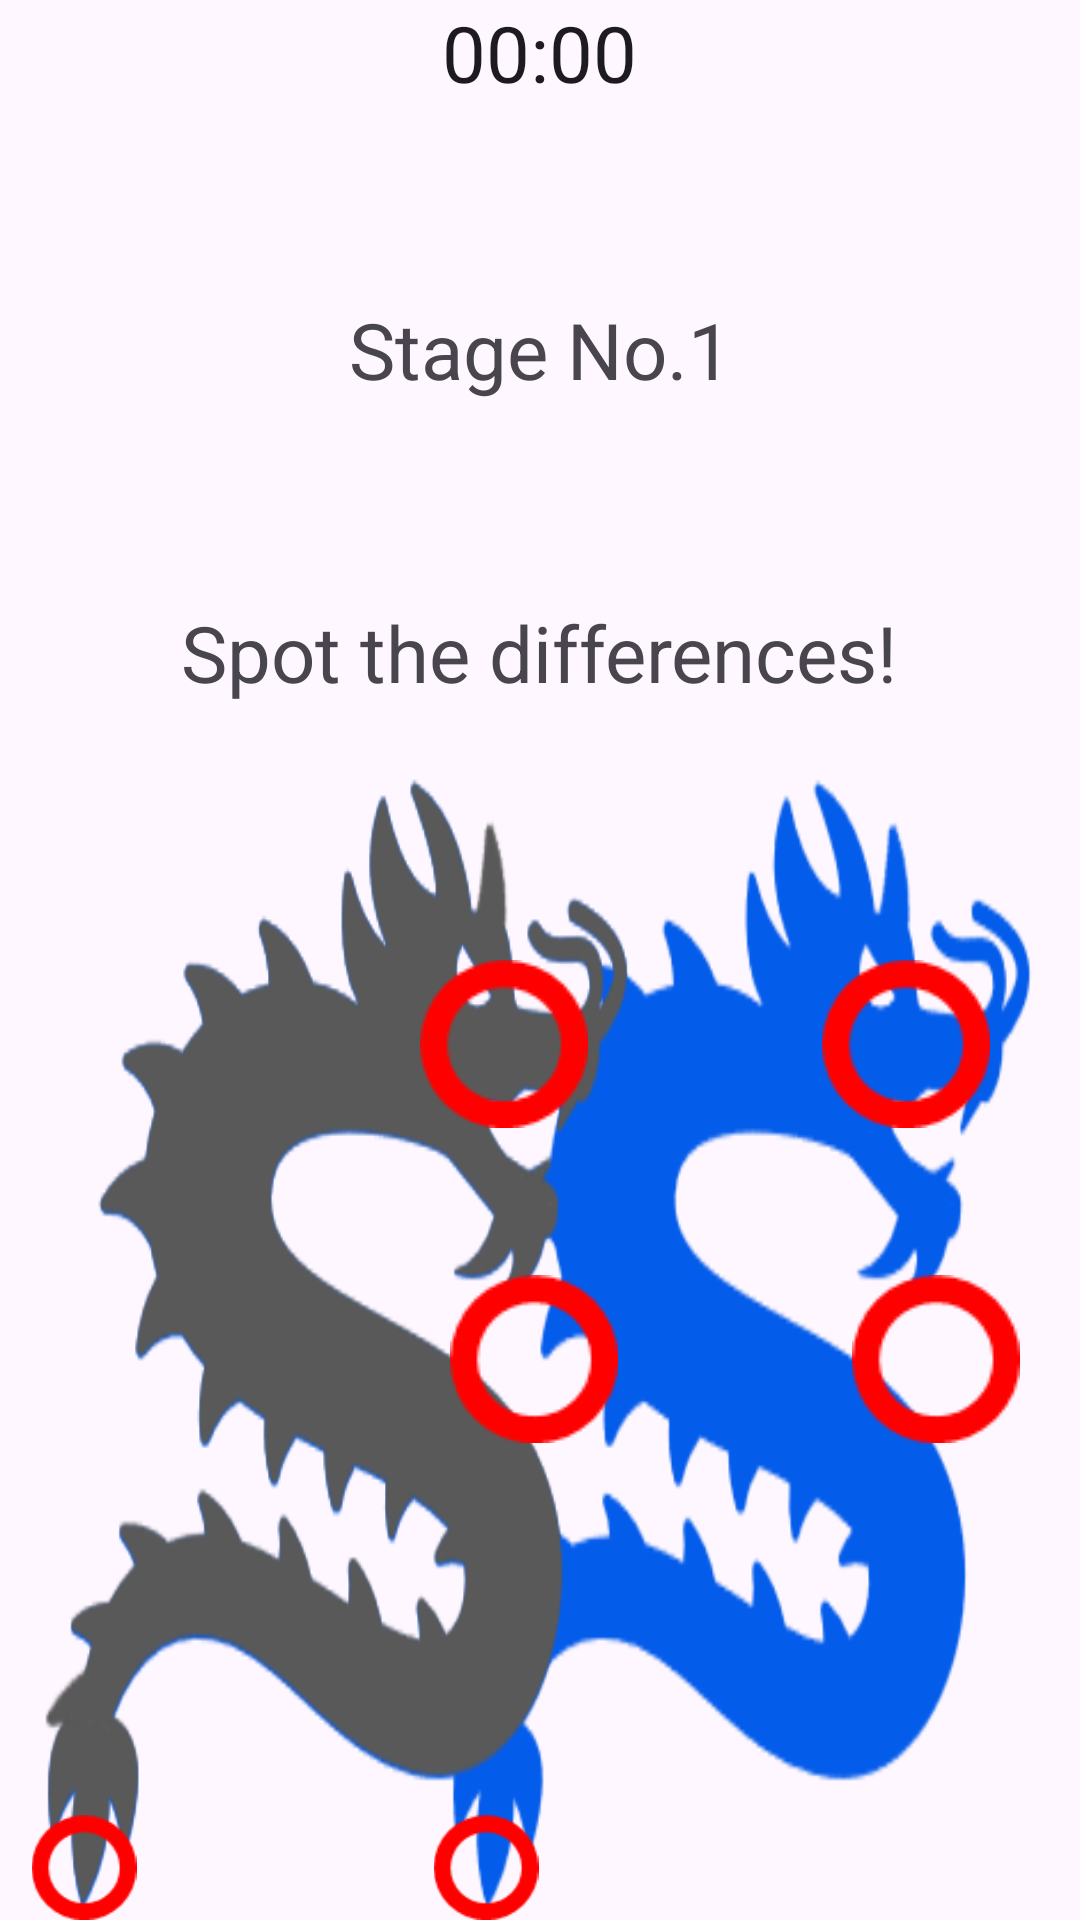

Screen size 1080px x 1920px. Icon name, then its center in pixels as (x=x, y=y):
circle: (x=504, y=1044), (x=906, y=1044), (x=534, y=1359), (x=936, y=1359), (x=84, y=1867), (x=487, y=1867)
